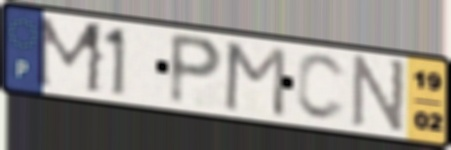1: (101, 26, 128, 98)
C: (293, 51, 349, 124)
M: (34, 15, 107, 98), (221, 39, 289, 120)
N: (349, 53, 409, 137)
P: (166, 29, 227, 109)
